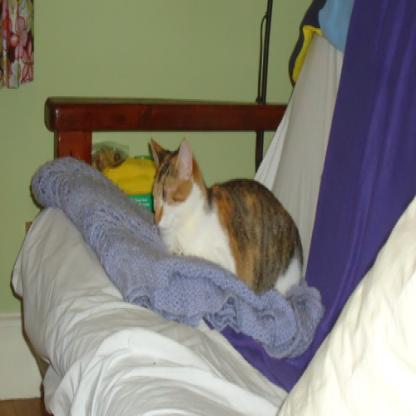Target: (146, 132, 306, 308)
